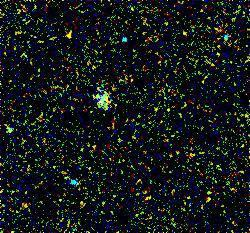star: (54, 16, 84, 46)
